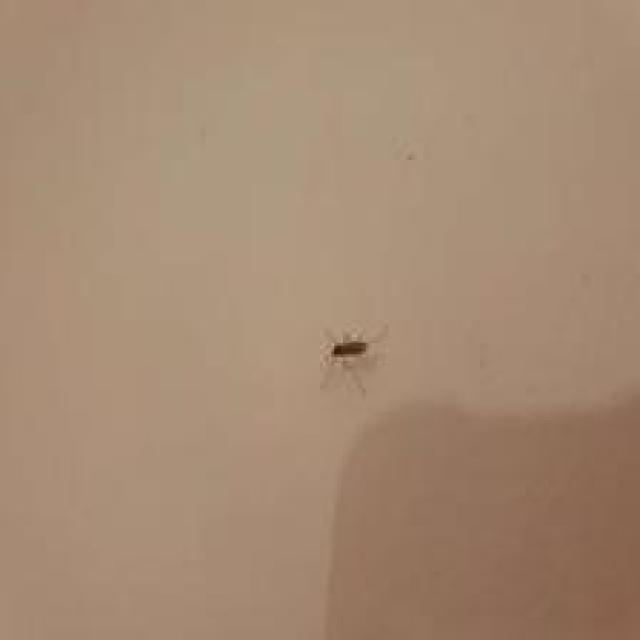Culex: (317, 323, 389, 397)
